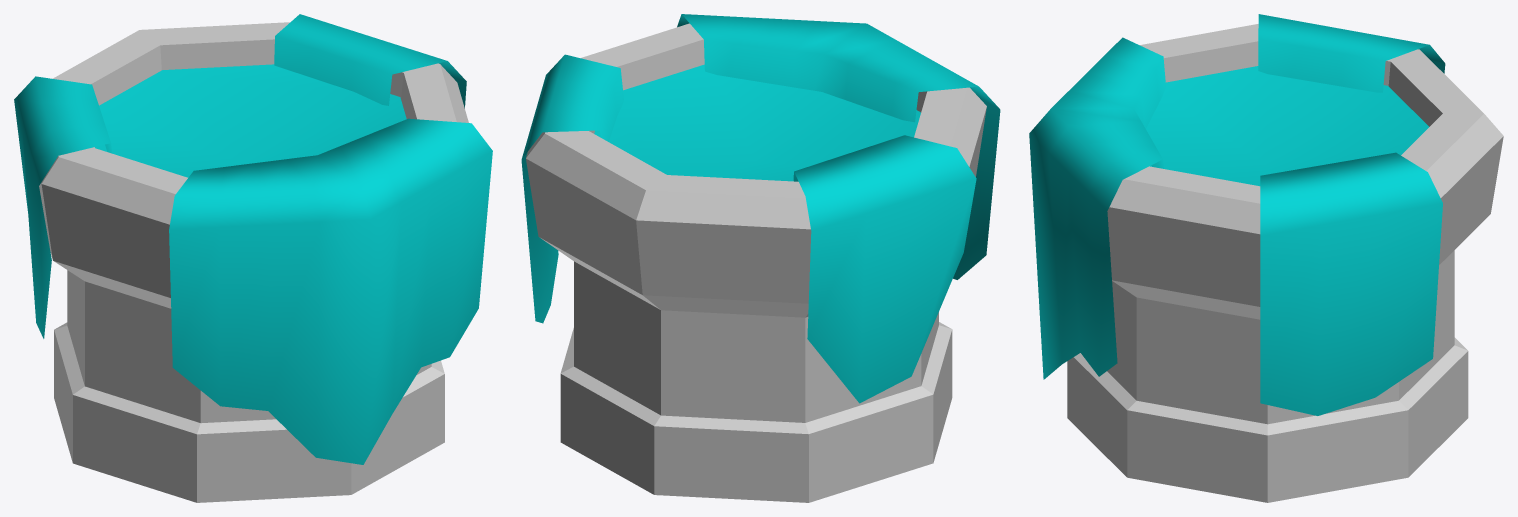
File: ArcaneWell.fbx
3 renders of one model, left to right at view 1: azimuth 30°, elevation 25°; view 2: azimuth 150°, elevation 25°; view 3: azimuth 270°, elevation 25°, orthographic.
Visible parts, largest first — view 1: Cube; view 2: Cube; view 3: Cube.
Boxes of the visible parts, x1,y1,x2,y2 form: Cube: (14,14,492,502); Cube: (521,14,1000,502); Cube: (1029,14,1503,502).
Size of the model in its own units: 346 by 244 by 337.
